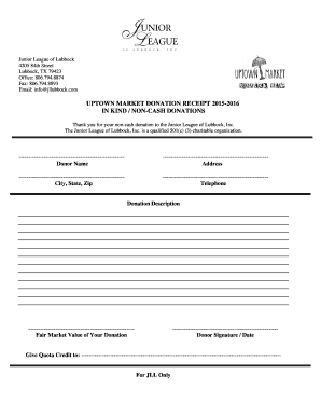textline: (81, 345, 283, 359), (16, 209, 290, 219), (16, 225, 290, 234), (16, 241, 290, 250), (16, 249, 290, 258), (16, 256, 290, 265), (16, 265, 290, 274), (17, 281, 291, 290), (17, 290, 291, 299), (17, 297, 291, 306), (16, 219, 290, 227), (16, 233, 290, 241), (16, 274, 290, 282), (16, 144, 127, 162), (169, 315, 280, 333), (26, 314, 136, 332), (161, 144, 274, 161), (161, 165, 277, 180), (16, 166, 127, 180)
